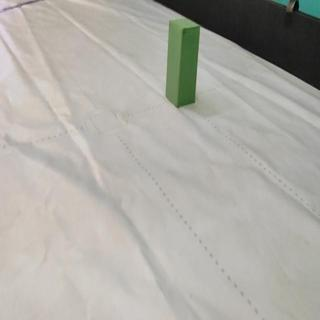greenbox: (163, 17, 201, 107)
